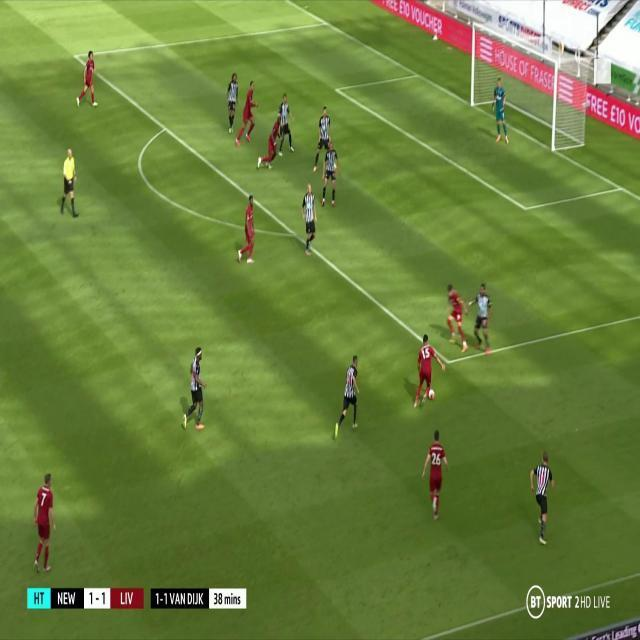ball: (428, 387, 436, 401)
goalkeeper: (489, 76, 509, 146)
player: (30, 466, 56, 587), (417, 427, 449, 519), (410, 333, 447, 411), (529, 450, 558, 548), (331, 355, 362, 440), (185, 345, 211, 436), (441, 284, 467, 354), (237, 194, 260, 272), (469, 281, 492, 357), (311, 104, 333, 175), (236, 79, 258, 147), (322, 142, 343, 210), (301, 181, 319, 259), (256, 114, 281, 167), (76, 50, 99, 107), (278, 94, 296, 157), (226, 70, 241, 135)
referee: (61, 145, 82, 220)
